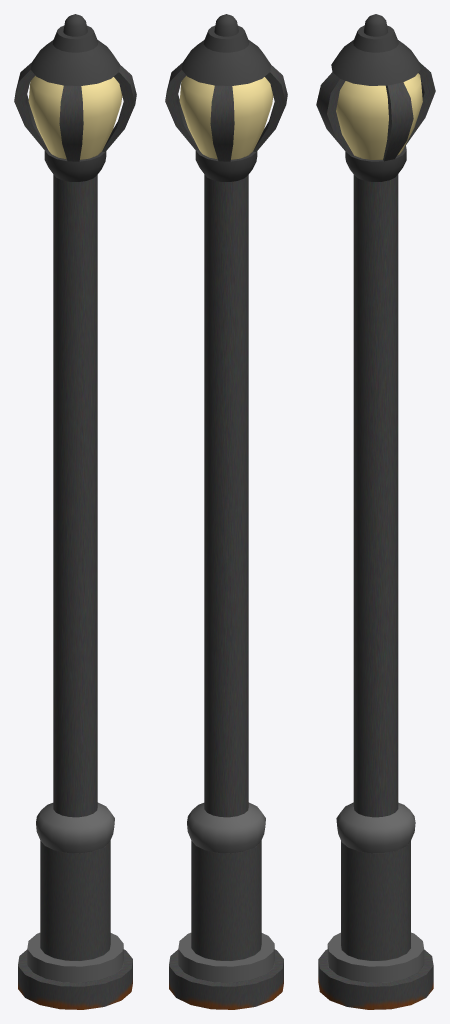
File: Lamp.fbx
3 views of the same model, side by side, from view 1: azimuth 30°, elevation 25°; view 2: azimuth 210°, elevation 25°; view 3: azimuth 330°, elevation 25° (orthographic).
Parts seen in each view (by area): view 1: Street Lamp 1; view 2: Street Lamp 1; view 3: Street Lamp 1.
Part boxes in pixels (box(x1,y1,x2,y2)): Street Lamp 1: box(14, 14, 136, 1009); Street Lamp 1: box(165, 14, 287, 1009); Street Lamp 1: box(316, 14, 435, 1009).
Size of the model in its own units: 123 by 1138 by 123.
Materials: 1 (1 with a texture image).
